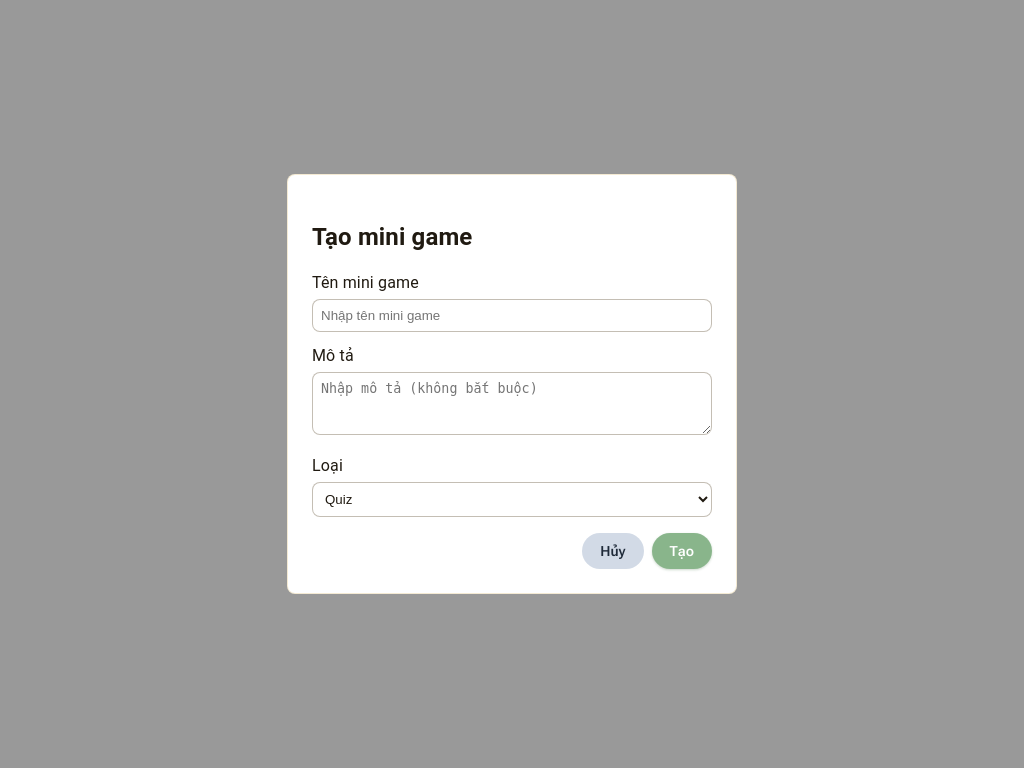
Test: MiniGameCreateModal › shows error message with retry button on AI failure
Step 1. Type "Quiz test" into the field labelled "Tên mini game" → x=512, y=315, box [312,298,712,332]
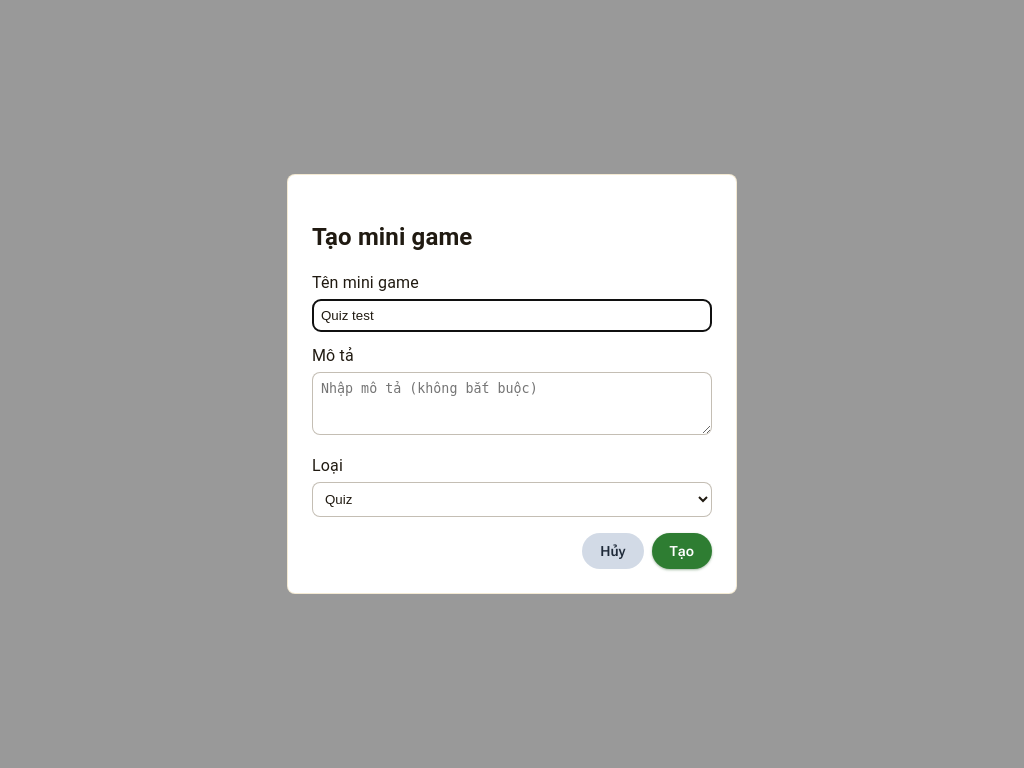
Step 2. Click the button "Tạo" → x=682, y=551, box [652,532,712,569]
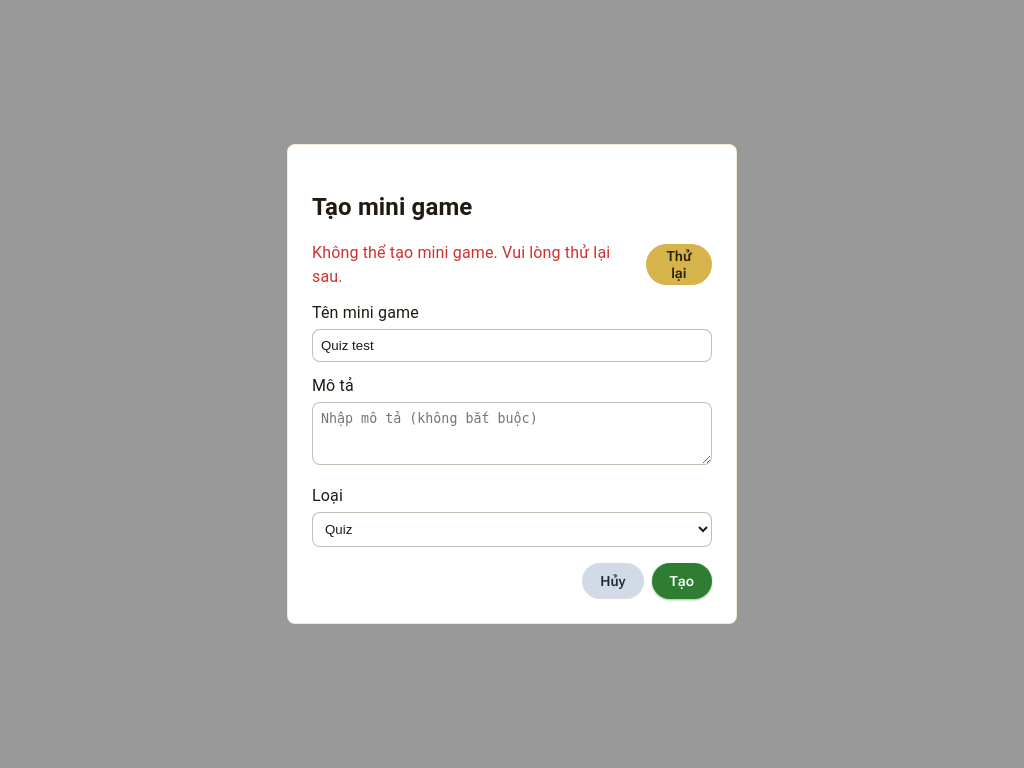
Expected: the message shows "Không thể tạo mini game. Vui lòng thử lại sau.", [312,242,610,286]
Expected: the button "Thử lại" is shown, [646,244,712,285]
